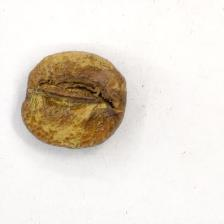NG: (24, 51, 123, 149)
